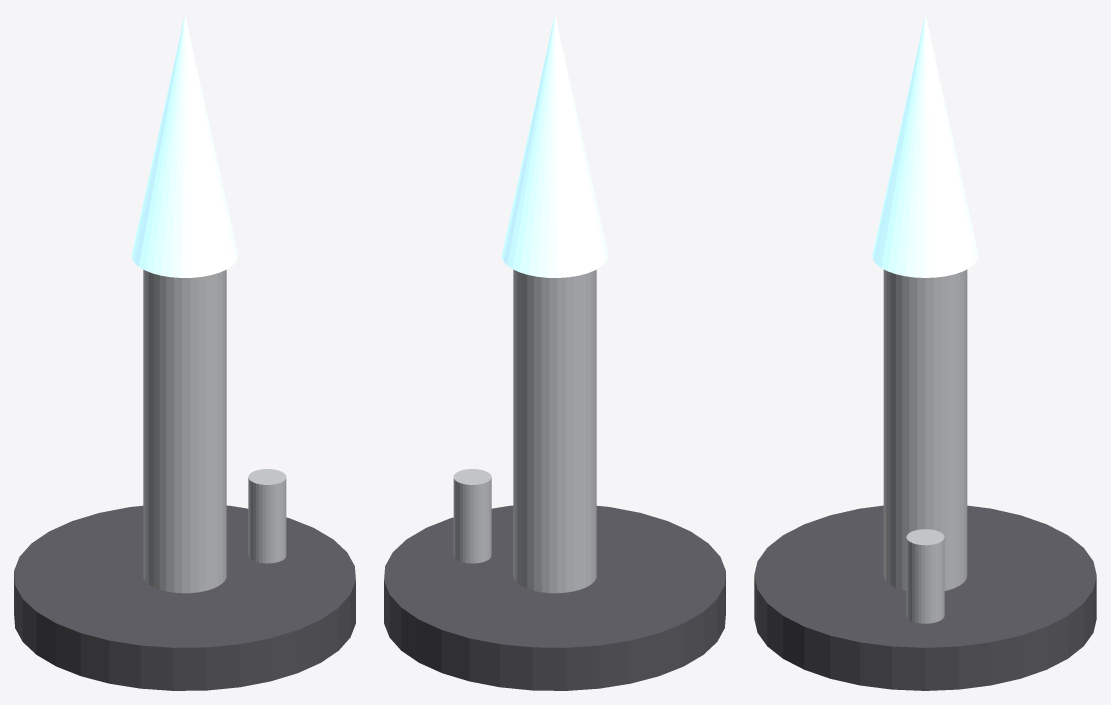
Rendered from bunsen_burner.glb.
The picture shows the model from 3 angles, left to right: view 1: azimuth 30°, elevation 25°; view 2: azimuth 150°, elevation 25°; view 3: azimuth 270°, elevation 25°; orthographic projection.
Parts seen in each view (by area): view 1: BurnerBase, BurnerBarrel, Flame, GasInlet; view 2: BurnerBase, BurnerBarrel, Flame, GasInlet; view 3: BurnerBase, BurnerBarrel, Flame, GasInlet.
Boxes of the visible parts, x1,y1,x2,y2 form: BurnerBase: (14,505,355,690); BurnerBarrel: (143,269,226,593); Flame: (132,15,237,277); GasInlet: (248,469,286,563); BurnerBase: (384,505,725,690); BurnerBarrel: (513,269,596,593); Flame: (502,15,607,277); GasInlet: (453,469,491,563); BurnerBase: (754,505,1096,690); BurnerBarrel: (883,269,967,590); Flame: (872,14,978,277); GasInlet: (906,529,944,623).
Size of the model in its own units: 1.8 by 3.6 by 1.8.
